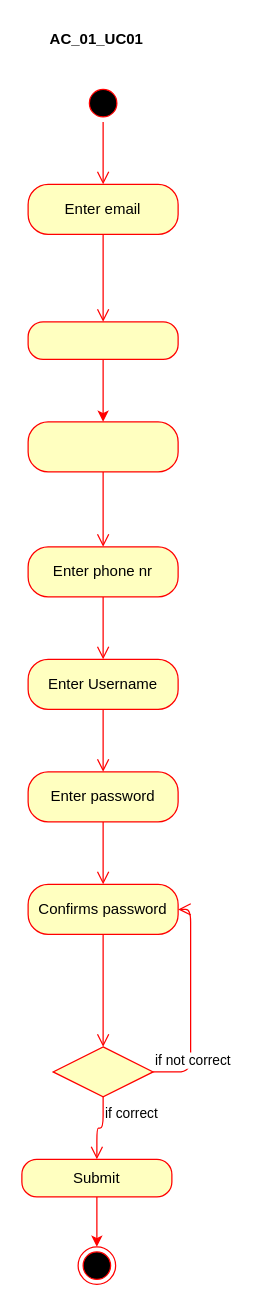
Image size: 254x1306. Some labels were removed from this diagram. The box of each missing label's shape, as (x1, y1, x2, y2) in pixels:
Condition: (52, 1046, 153, 1097)
Enter address: (27, 421, 178, 472)
Enter shop name: (27, 321, 178, 359)
